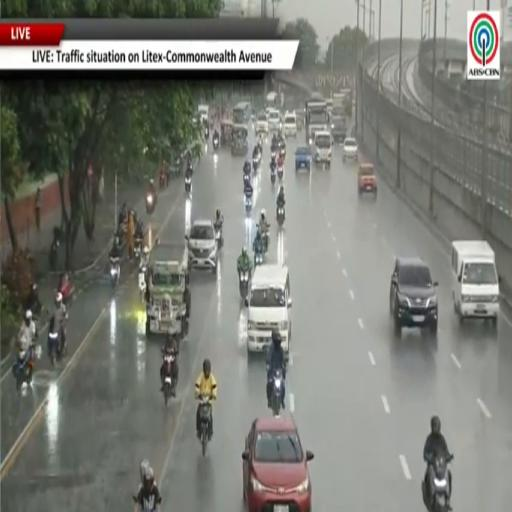bus: (305, 100, 328, 145), (233, 102, 251, 124), (266, 92, 280, 109)
car: (242, 416, 313, 511), (390, 258, 438, 335), (186, 220, 217, 273), (313, 132, 332, 167), (358, 164, 377, 198), (295, 147, 311, 171), (343, 138, 358, 161), (283, 112, 296, 137), (268, 109, 281, 131), (256, 111, 268, 134)
jeepney: (231, 124, 248, 155), (221, 120, 233, 146)
motorcycle: (422, 455, 453, 511), (13, 346, 35, 390), (47, 317, 66, 365), (199, 396, 212, 456), (163, 355, 176, 405), (271, 370, 283, 415), (57, 279, 74, 309), (48, 330, 59, 365), (110, 258, 120, 289), (49, 240, 59, 270), (138, 265, 146, 301), (240, 271, 250, 298), (262, 224, 269, 252), (215, 224, 223, 248), (146, 194, 155, 215), (135, 238, 143, 261), (277, 205, 285, 227), (254, 251, 264, 266), (159, 172, 167, 189), (245, 196, 252, 213), (185, 176, 191, 194), (277, 166, 283, 182), (243, 173, 251, 184), (213, 136, 219, 150), (253, 157, 258, 172), (204, 125, 209, 140), (271, 167, 275, 184), (280, 146, 285, 158), (271, 150, 275, 159)
truck: (146, 240, 190, 338), (333, 89, 352, 117), (331, 116, 347, 142), (332, 93, 345, 116), (198, 104, 209, 122)
